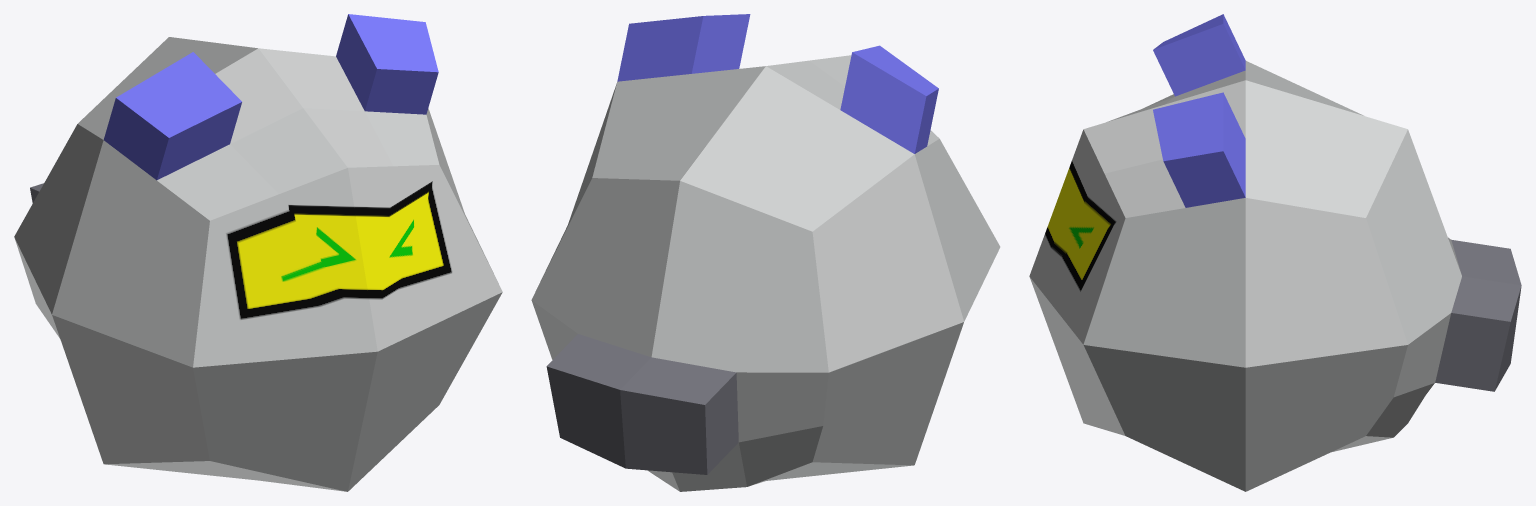
The model's file is workerbot.fbx.
3 views of the same model, side by side, from view 1: azimuth 30°, elevation 25°; view 2: azimuth 150°, elevation 25°; view 3: azimuth 270°, elevation 25° (orthographic). The views are drawn at different scales.
Visible parts, largest first — view 1: Workbot; view 2: Workbot; view 3: Workbot.
Boxes of the visible parts, x1,y1,x2,y2 form: Workbot: [14, 14, 502, 491]; Workbot: [531, 14, 1000, 491]; Workbot: [1029, 14, 1521, 491].
Size of the model in its own units: 200 by 211 by 227.
